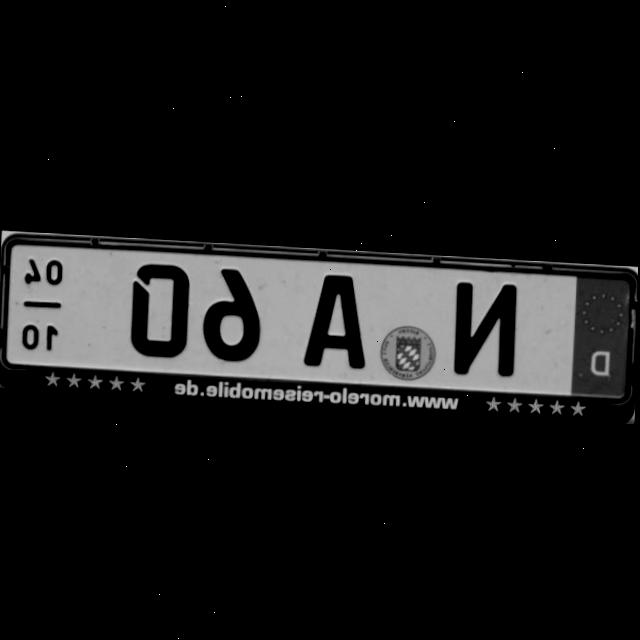license-plates: (2, 243, 632, 400)
